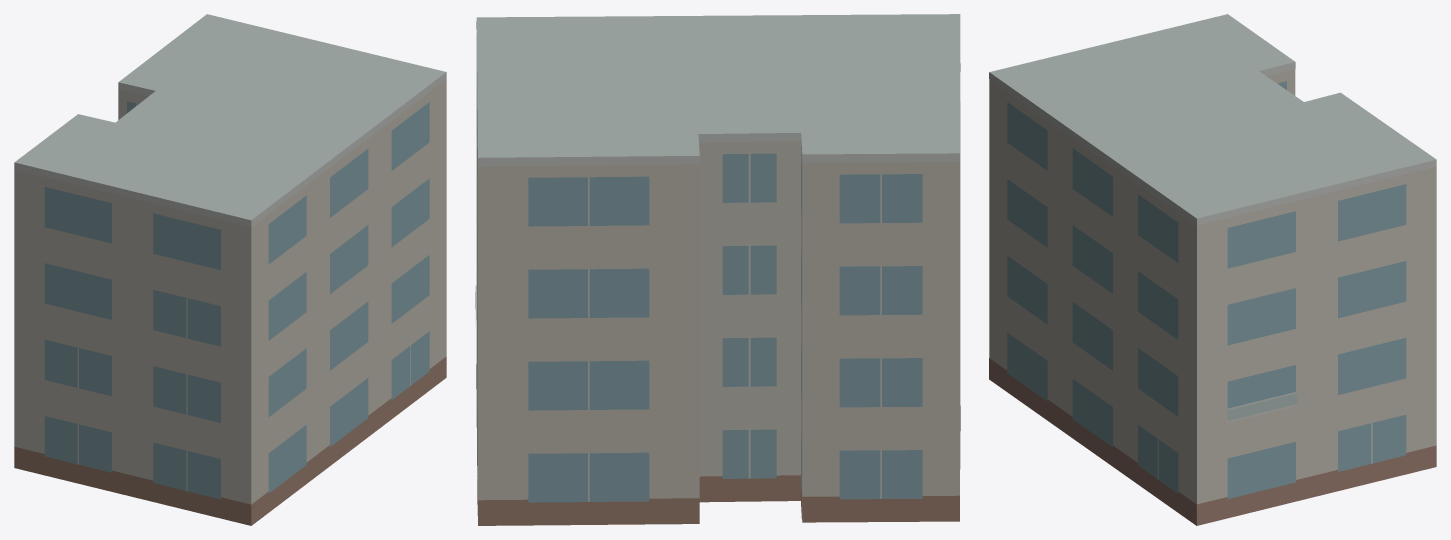
The model's file is survey-upis-32538261.glb.
3 views of the same model, side by side, from view 1: azimuth 30°, elevation 25°; view 2: azimuth 150°, elevation 25°; view 3: azimuth 270°, elevation 25° (orthographic). The views are drawn at different scales.
Visible parts, largest first — view 1: survey-upis-32538261.tmp; view 2: survey-upis-32538261.tmp; view 3: survey-upis-32538261.tmp.
Boxes of the visible parts, x1,y1,x2,y2 form: survey-upis-32538261.tmp: [14, 14, 446, 525]; survey-upis-32538261.tmp: [475, 14, 960, 525]; survey-upis-32538261.tmp: [989, 14, 1436, 525].
Size of the model in its own units: 15.14 by 10.6 by 14.
